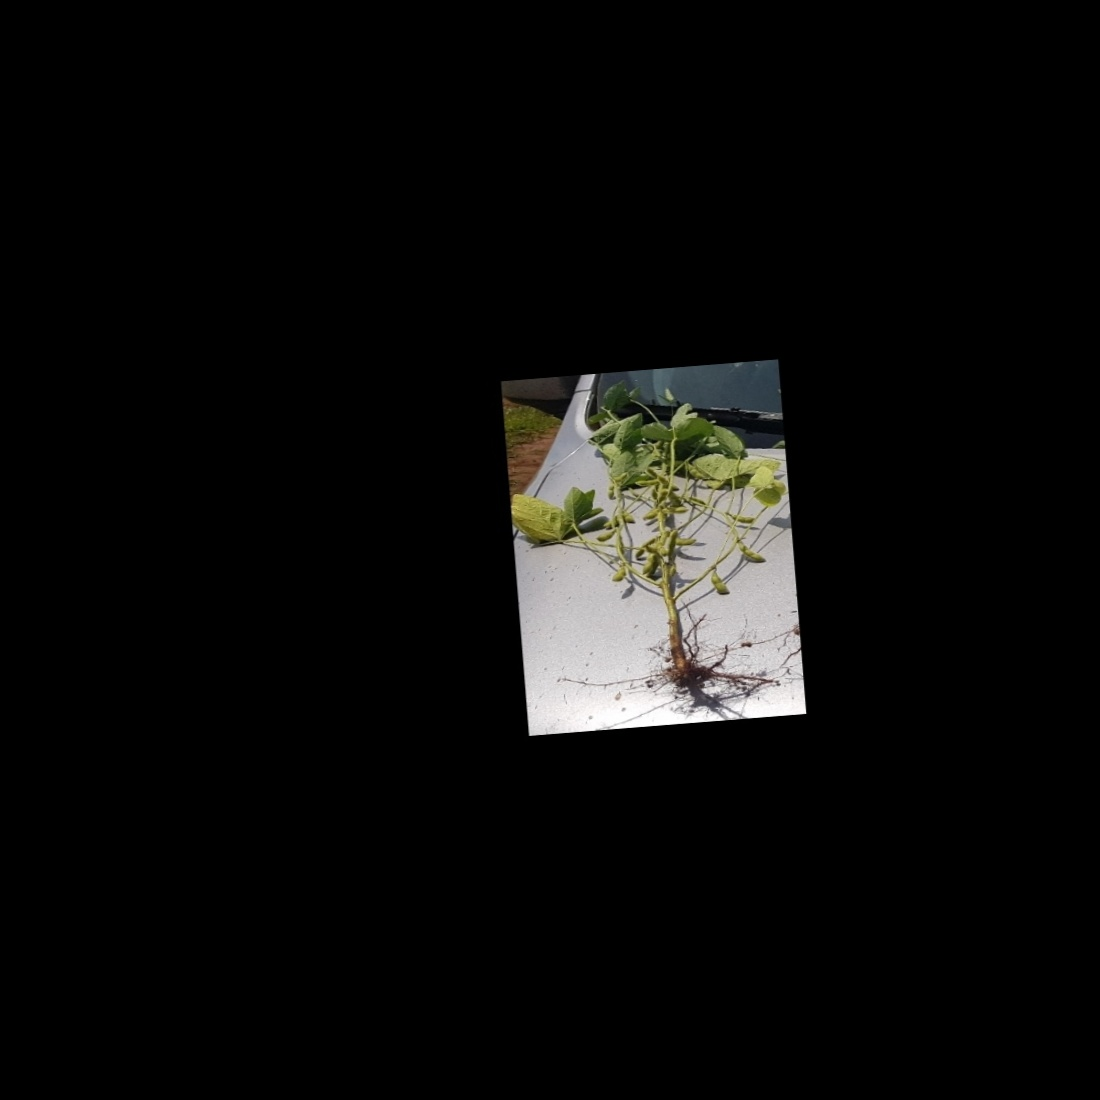pod: (734, 534, 769, 568), (708, 565, 733, 600), (685, 458, 708, 484), (723, 509, 757, 526), (605, 565, 629, 587), (592, 529, 617, 544), (631, 476, 662, 489)
soy: (531, 375, 792, 707)
